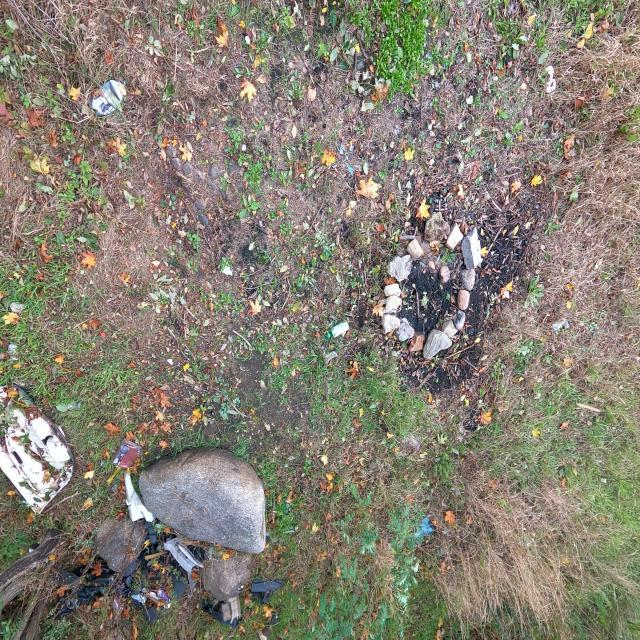rubbish: (566, 124, 639, 258), (498, 18, 594, 83), (452, 41, 498, 119), (484, 117, 516, 171), (395, 10, 440, 46), (436, 64, 477, 103), (516, 523, 549, 561), (494, 171, 531, 202), (354, 0, 382, 38), (352, 36, 390, 63), (491, 52, 519, 87), (398, 15, 419, 46), (513, 22, 532, 48), (436, 41, 454, 67), (476, 34, 500, 53), (290, 301, 314, 319), (83, 546, 97, 575), (479, 14, 499, 33), (557, 226, 589, 237), (435, 78, 455, 95), (207, 103, 222, 124), (483, 97, 496, 120), (70, 307, 89, 321), (618, 279, 633, 296), (471, 80, 496, 90), (613, 326, 632, 339), (407, 363, 420, 377), (342, 106, 359, 116), (493, 37, 510, 47), (470, 39, 483, 52), (394, 44, 408, 55), (348, 124, 357, 140), (467, 31, 479, 41), (285, 463, 293, 474), (295, 483, 301, 496)
